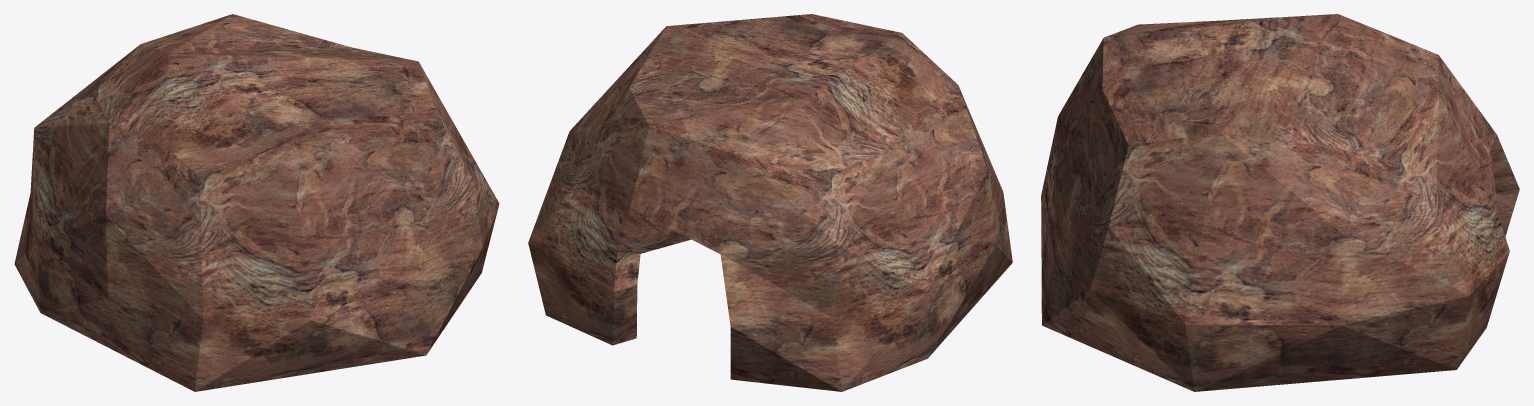
Rendered from thm_dath_night_sister_tent_house_s01_l3.fbx.
The picture shows the model from 3 angles, left to right: view 1: azimuth 30°, elevation 25°; view 2: azimuth 150°, elevation 25°; view 3: azimuth 270°, elevation 25°; orthographic projection. The views are drawn at different scales.
Visible parts, largest first — view 1: mesh_node; view 2: mesh_node; view 3: mesh_node.
Part boxes in pixels (bbox=[...]): mesh_node: bbox=[14, 14, 499, 391]; mesh_node: bbox=[528, 14, 1012, 391]; mesh_node: bbox=[1041, 14, 1519, 391].
Size of the model in its own units: 9.92 by 5.64 by 9.86.
Materials: 1 (1 with a texture image).
